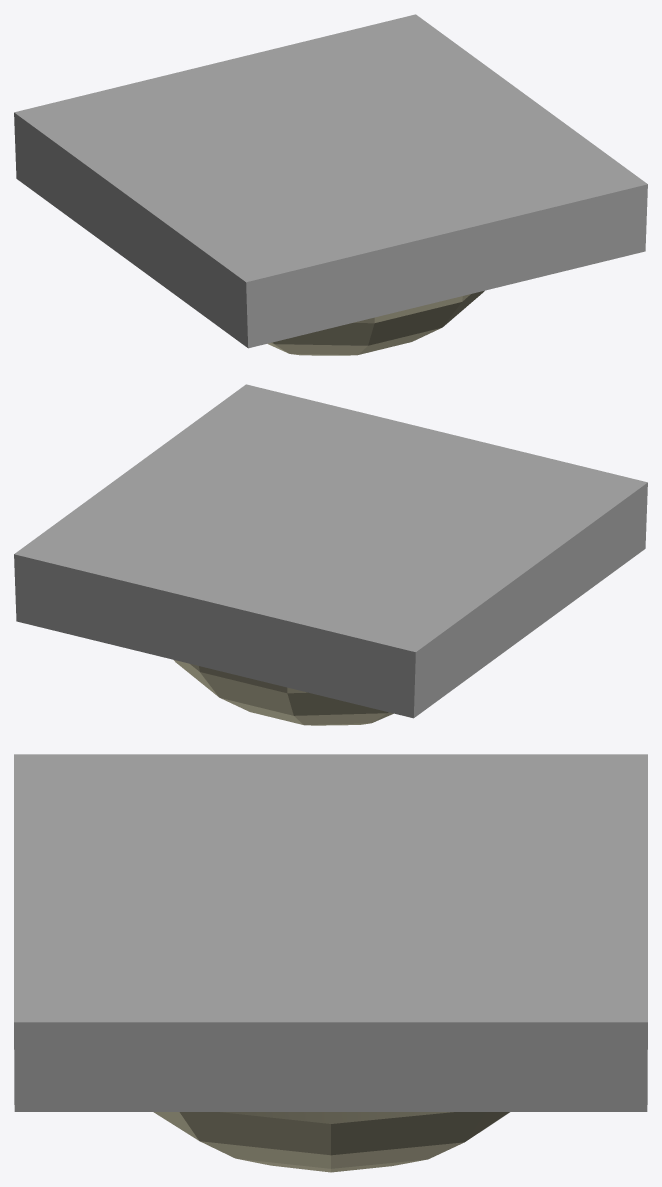
The model's file is instabile.fbx.
The picture shows the model from 3 angles, top to bottom: view 1: azimuth 30°, elevation 25°; view 2: azimuth 150°, elevation 25°; view 3: azimuth 270°, elevation 25°; orthographic projection. The views are drawn at different scales.
Visible parts, largest first — view 1: pSphere3; view 2: pSphere3; view 3: pSphere3.
Boxes of the visible parts, x1,y1,x2,y2 form: pSphere3: [14, 14, 647, 355]; pSphere3: [14, 384, 647, 725]; pSphere3: [14, 754, 647, 1172].
Bounding box in the file's own units: 4.02 × 1.76 × 4.02.
